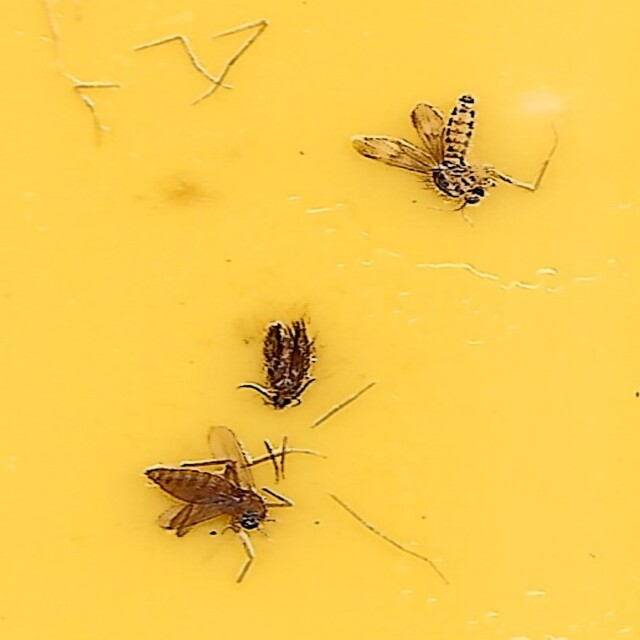Nematocera: (124, 425, 282, 550), (360, 90, 516, 215)
Trichoptera: (241, 311, 321, 416)
